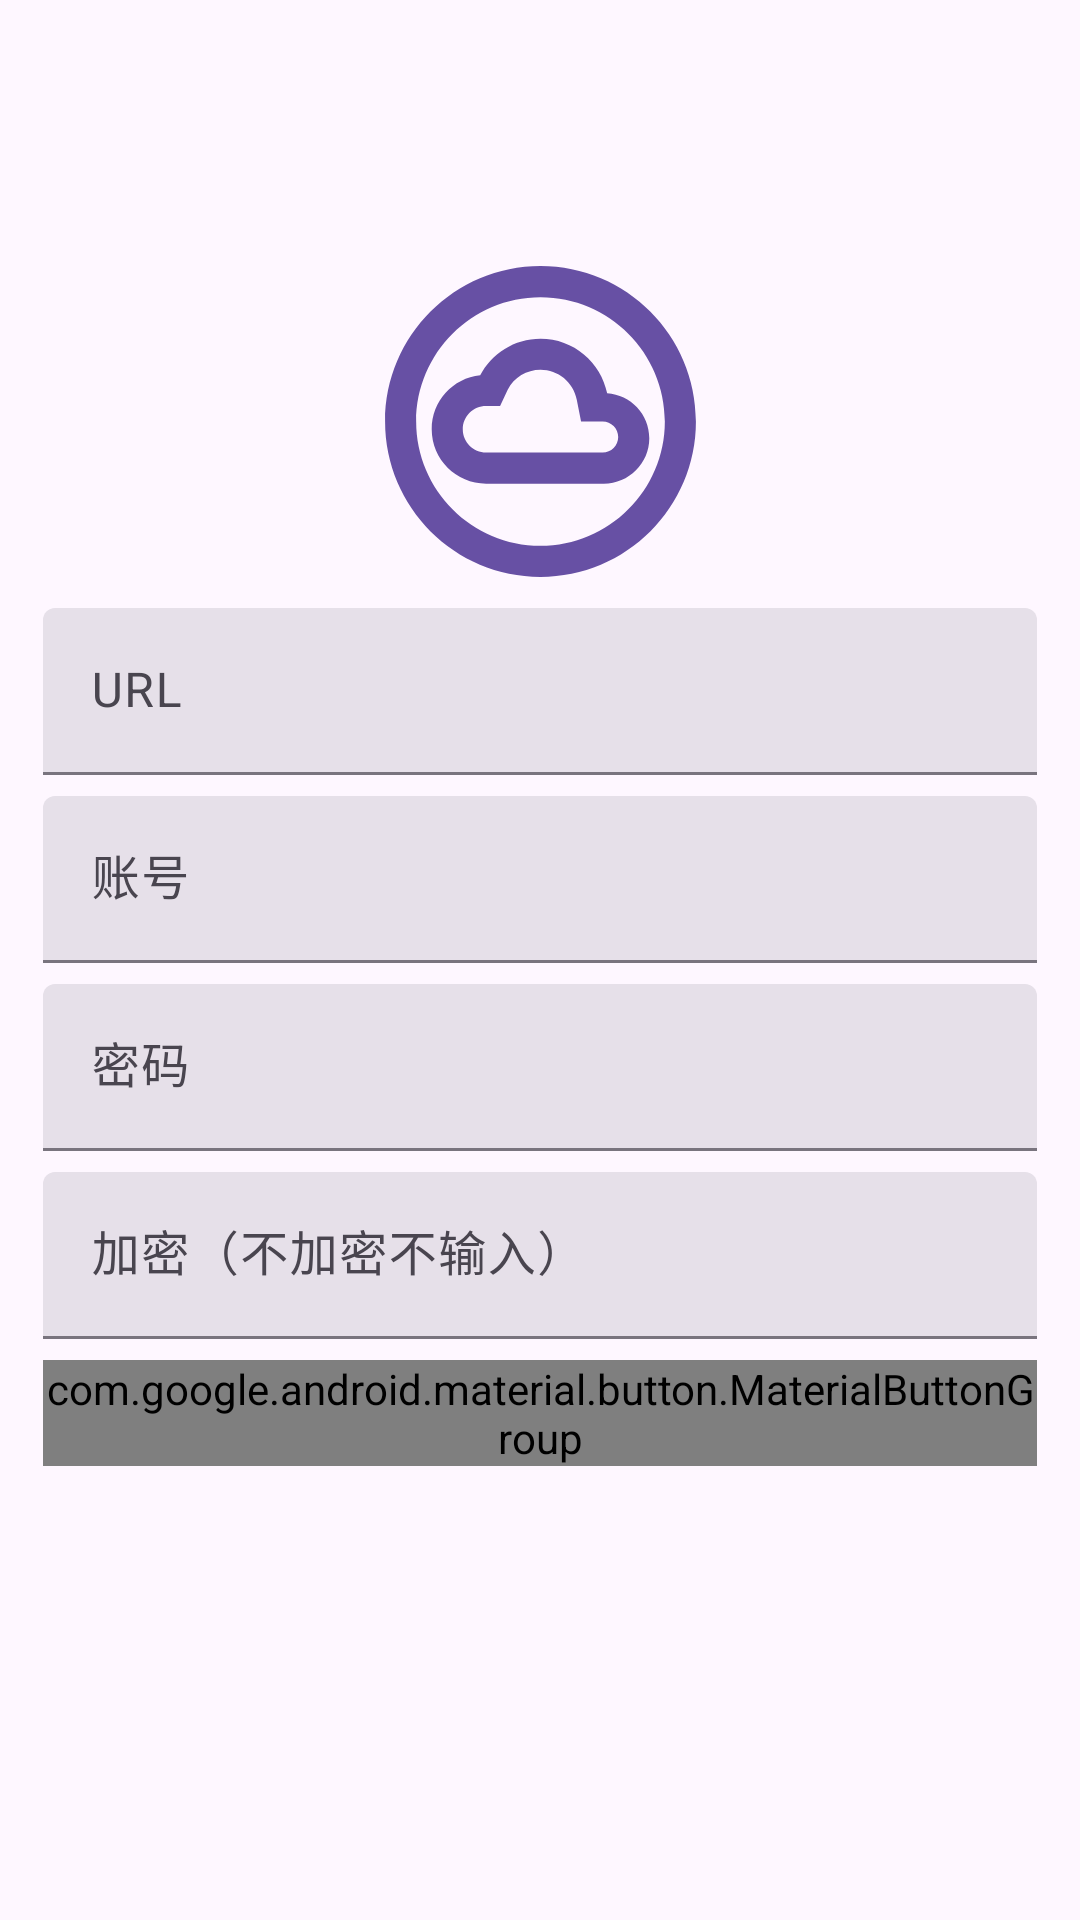

Icons on this 1080 x 1920 Android screen, each with the point to tap as (x=x, y=y):
cloud circle: (x=540, y=421)
